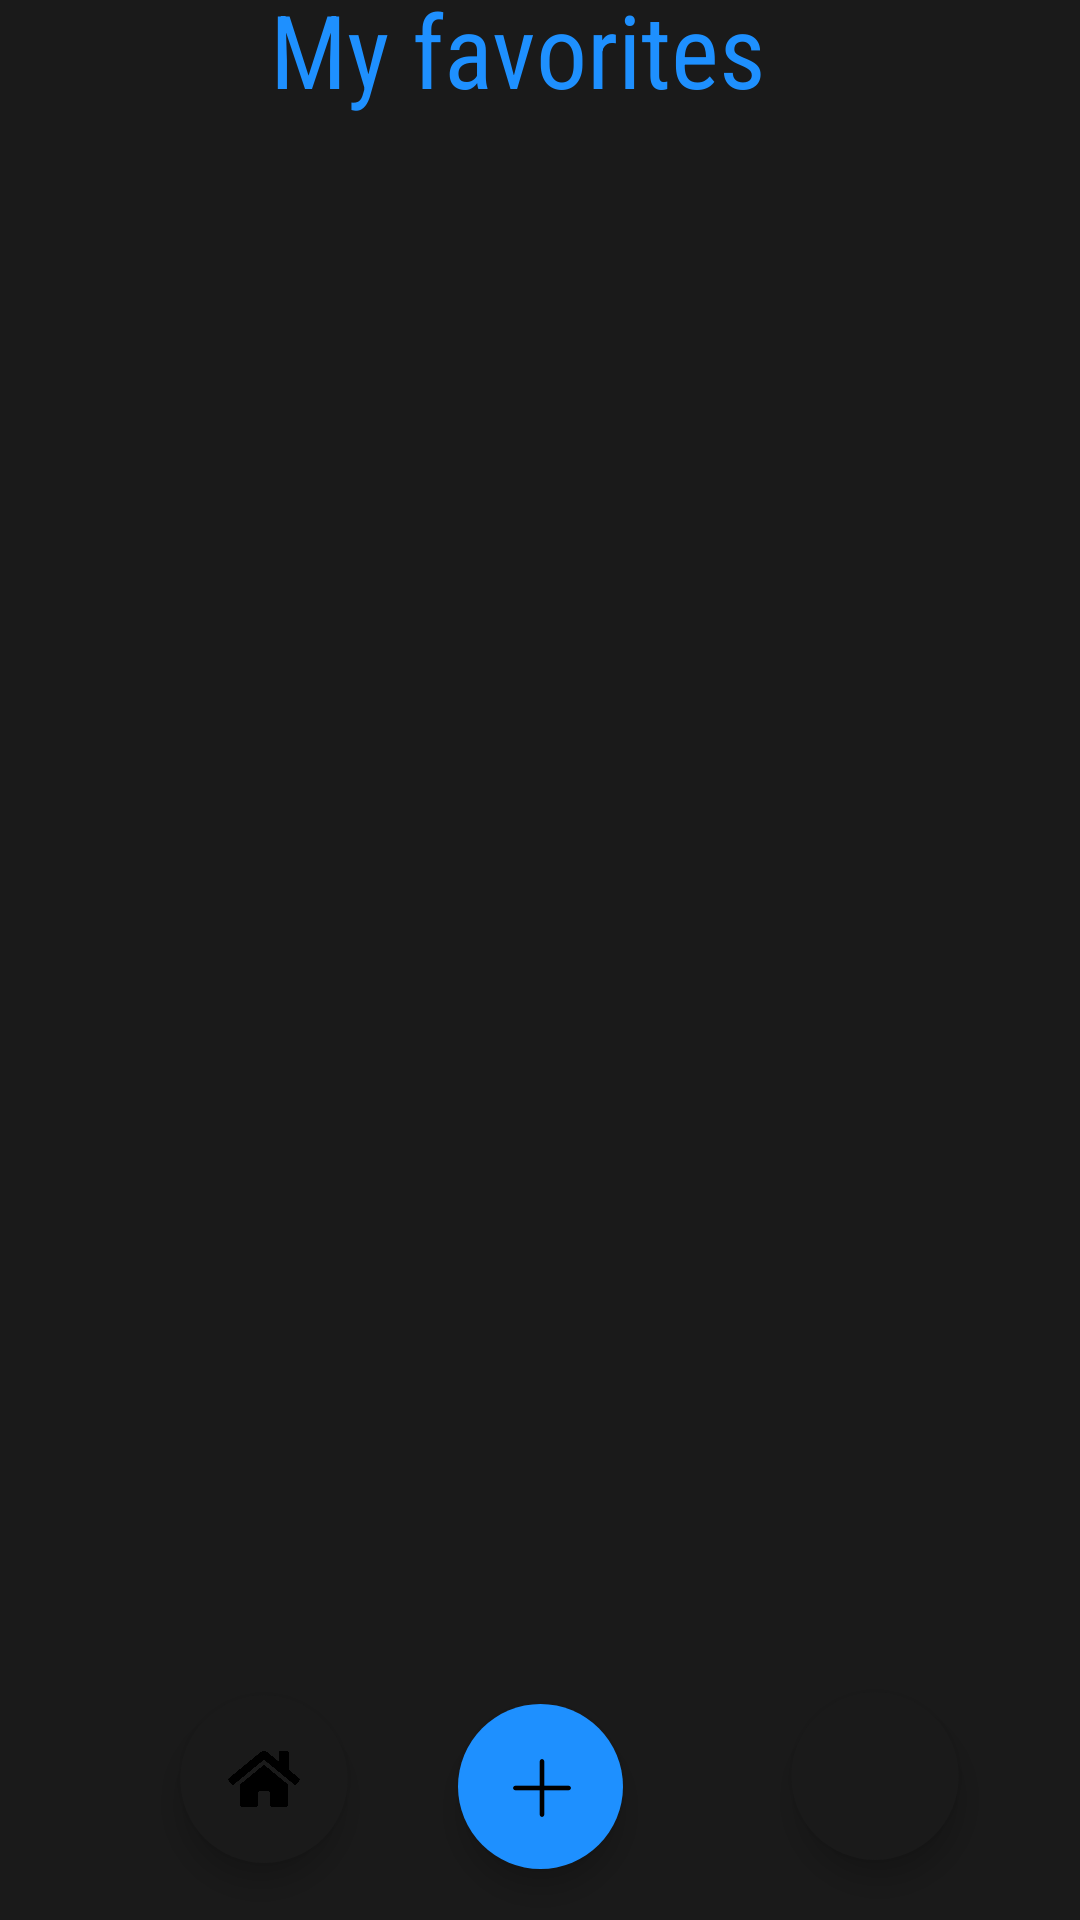

Named icons in this screenshot (1080*1920) and their bounding boxes, (x1, y1, x2, y2):
accueil: (228, 1751, 300, 1807)
add: (458, 1704, 623, 1869)
